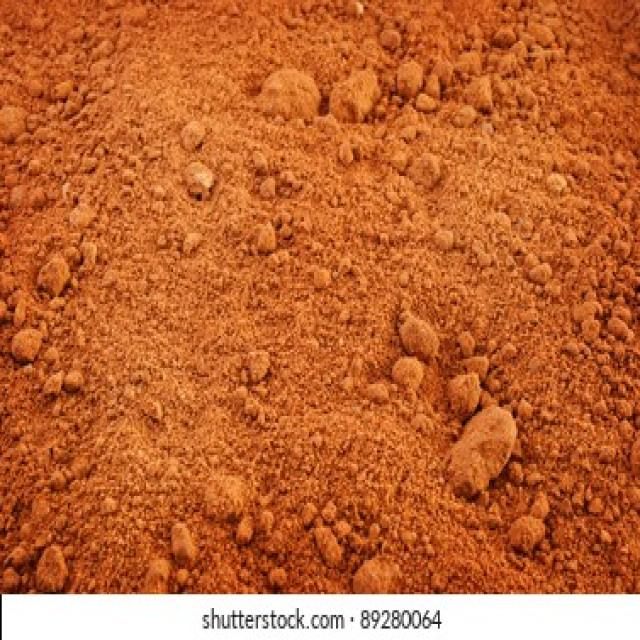Red Soil: (60, 67, 588, 527)
